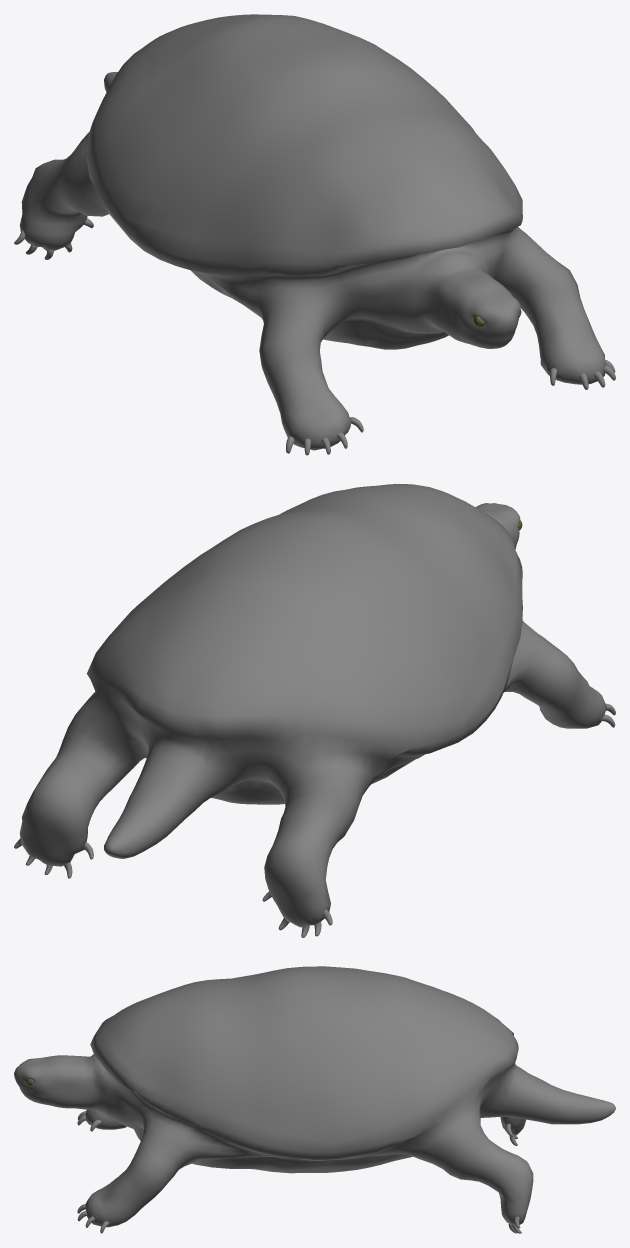
File: uploads_files_2184392_Turtle_OBJ.obj
3 renders of one model, top to bottom at view 1: azimuth 30°, elevation 25°; view 2: azimuth 150°, elevation 25°; view 3: azimuth 270°, elevation 25°, orthographic. The views are drawn at different scales.
Parts seen in each view (by area): view 1: polySurface46; view 2: polySurface46; view 3: polySurface46.
Part boxes in pixels (left/top/right/bottom): polySurface46: left=14, top=14, right=615, bottom=455; polySurface46: left=14, top=484, right=615, bottom=937; polySurface46: left=14, top=966, right=615, bottom=1233.
Bounding box in the file's own units: 36.49 × 28.53 × 74.64.
